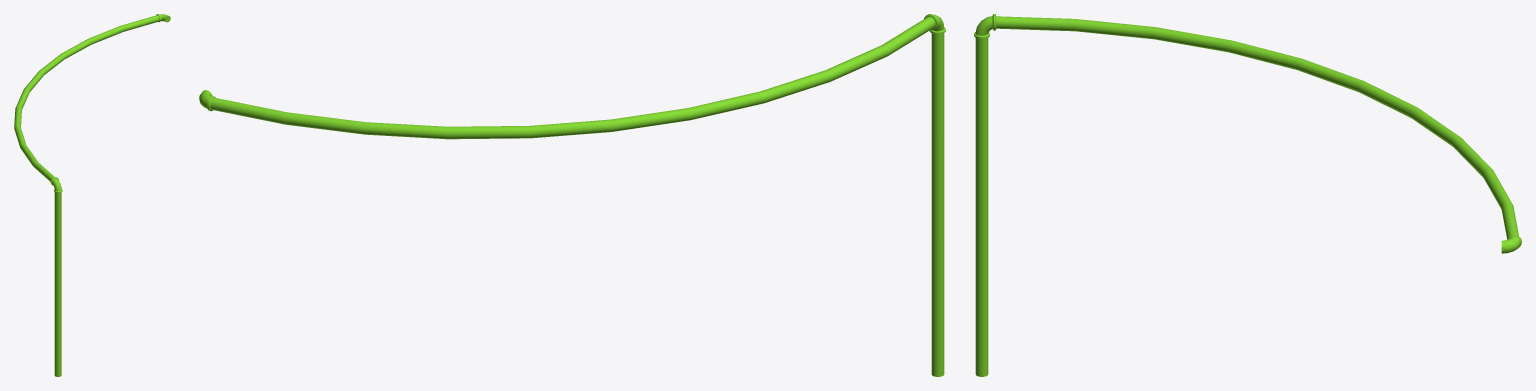
The model's file is Tank_Pipe_02_Lod0.fbx.
3 views of the same model, side by side, from view 1: azimuth 30°, elevation 25°; view 2: azimuth 150°, elevation 25°; view 3: azimuth 270°, elevation 25° (orthographic). The views are drawn at different scales.
Parts seen in each view (by area): view 1: Tank_Pipe_02_Lod0; view 2: Tank_Pipe_02_Lod0; view 3: Tank_Pipe_02_Lod0.
Part boxes in pixels (x1,y1,x2,y2): Tank_Pipe_02_Lod0: [14, 14, 170, 376]; Tank_Pipe_02_Lod0: [199, 14, 945, 376]; Tank_Pipe_02_Lod0: [974, 14, 1521, 376].
Bounding box in the file's own units: 4037 × 2927 × 4042.
